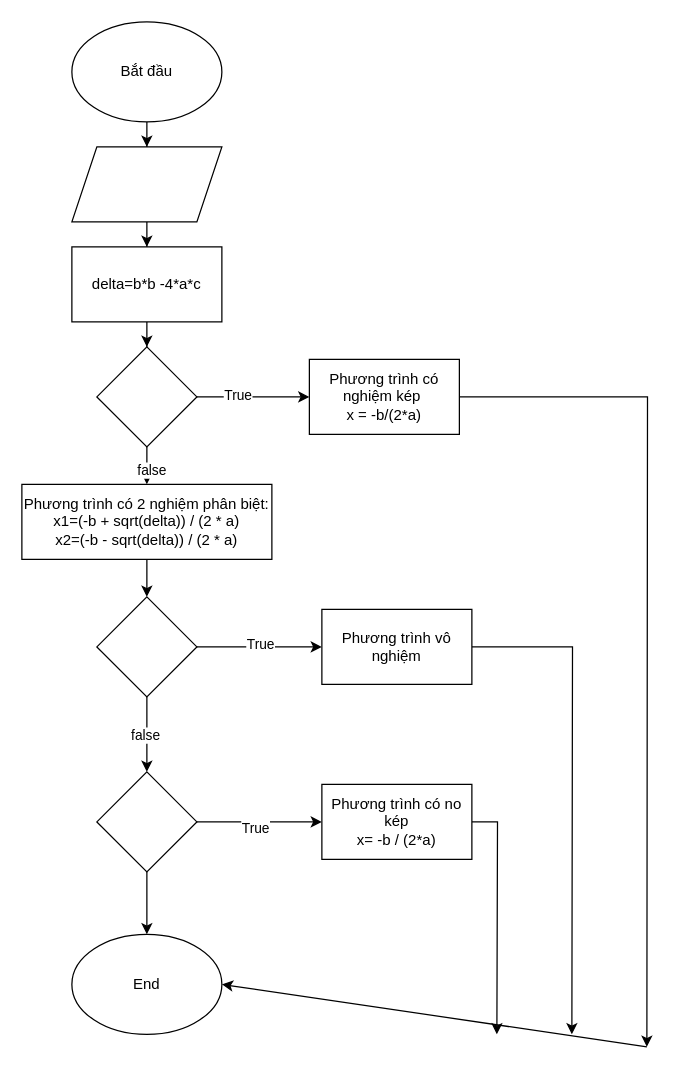
This 680x1079 diagram has some shape labels left out. Here are the shapes that lost their labels. From the top down, the box of each, then its label:
(71, 146, 222, 222): a,b,c delta,x1,x2
(96, 346, 197, 447): delta > 0
(96, 596, 197, 697): delta < 0
(96, 771, 197, 872): delta = 0
